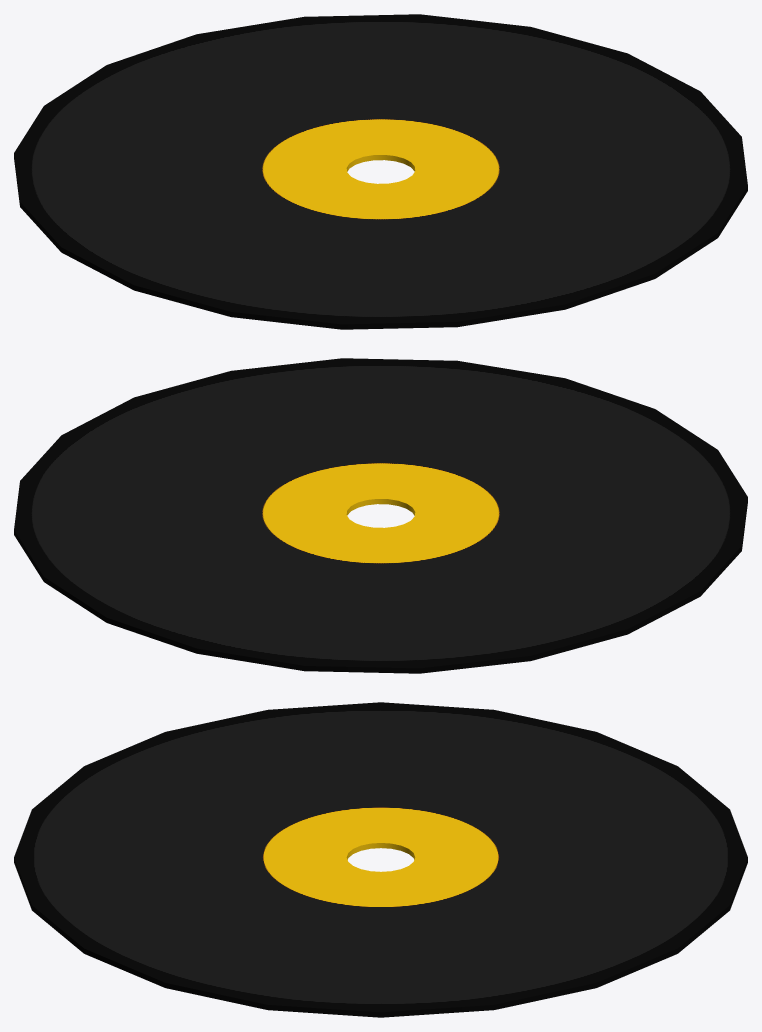
File: record.fbx
3 views of the same model, one above another, from view 1: azimuth 30°, elevation 25°; view 2: azimuth 150°, elevation 25°; view 3: azimuth 270°, elevation 25° (orthographic).
Visible parts, largest first — view 1: record; view 2: record; view 3: record.
Boxes of the visible parts, x1,y1,x2,y2 form: record: [14, 14, 747, 329]; record: [14, 358, 747, 673]; record: [14, 702, 747, 1017].
Bounding box in the file's own units: 11.66 × 0.092 × 11.66.
